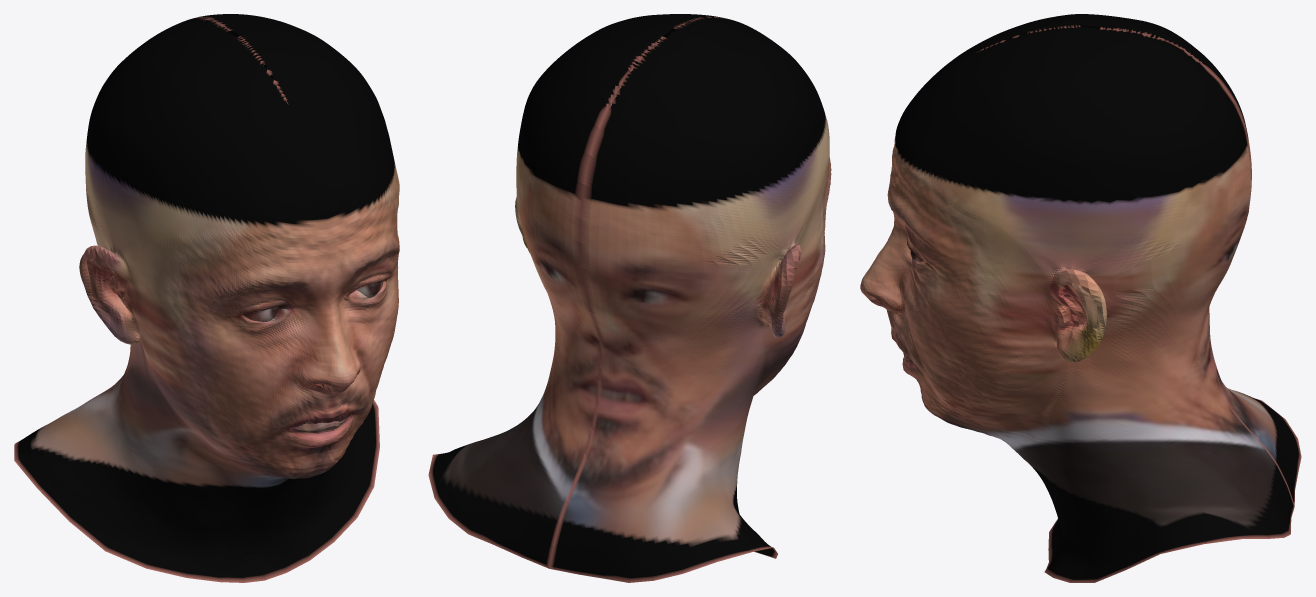
Rendered from mesh_coarse_detail.obj.
3 renders of one model, left to right at view 1: azimuth 30°, elevation 25°; view 2: azimuth 150°, elevation 25°; view 3: azimuth 270°, elevation 25°, orthographic.
Bounding box in the file's own units: 0.2127 × 0.3237 × 0.2434.
